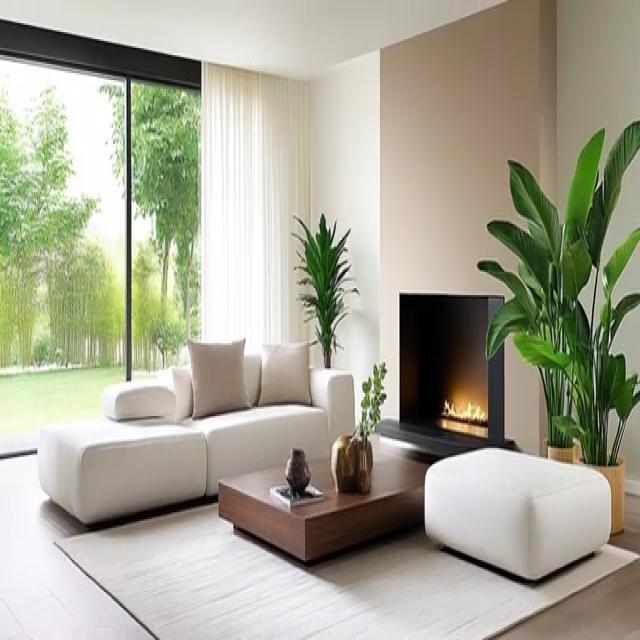obstacle: (36, 346, 355, 526), (217, 452, 428, 564)
